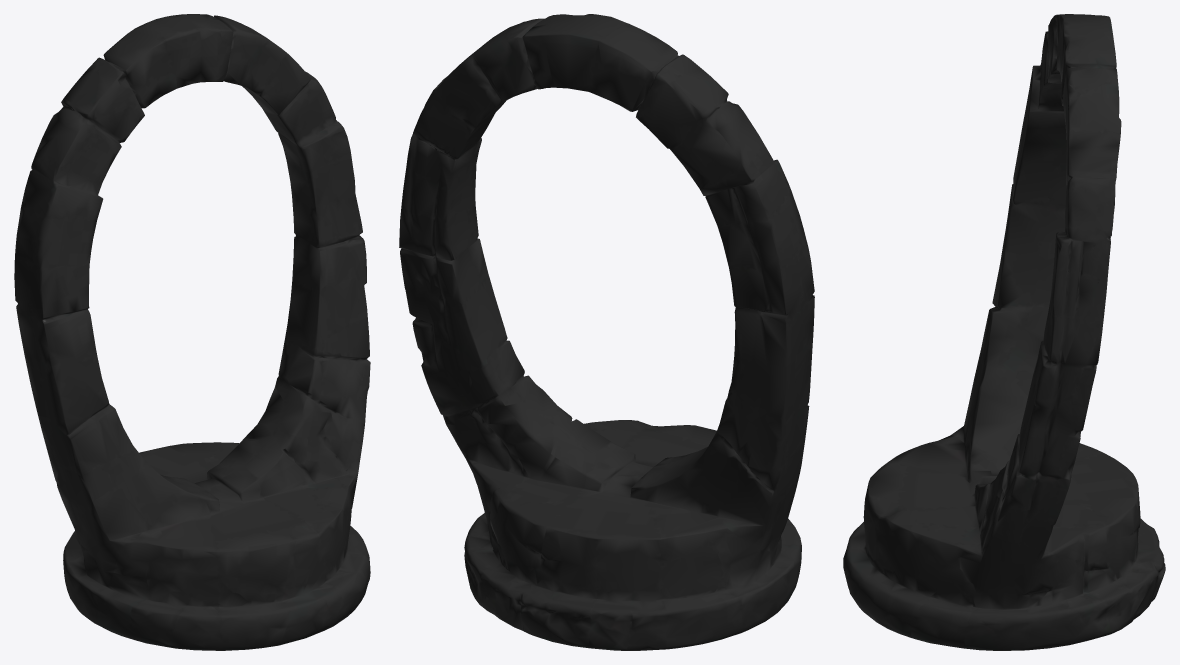
File: ring-portal.glb
3 renders of one model, left to right at view 1: azimuth 30°, elevation 25°; view 2: azimuth 150°, elevation 25°; view 3: azimuth 270°, elevation 25°, orthographic. The views are drawn at different scales.
Size of the model in its own units: 1.26 by 1.9 by 0.992.
1 material, 1 textured.
